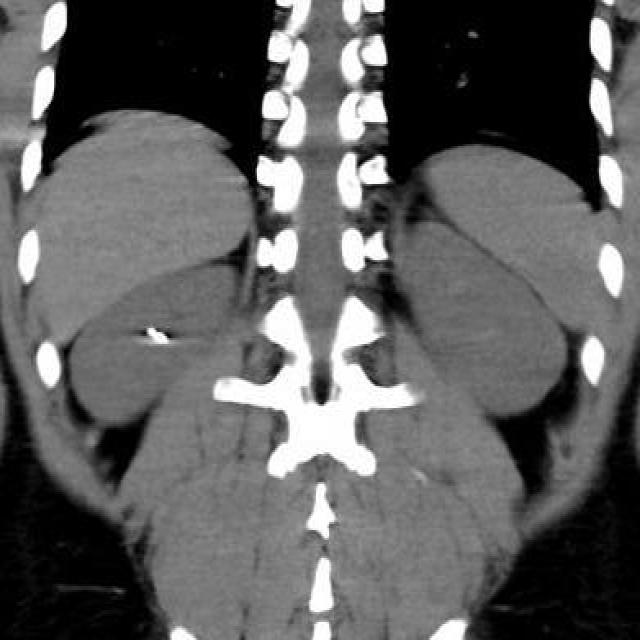Tas_Var: (147, 326, 171, 346)
